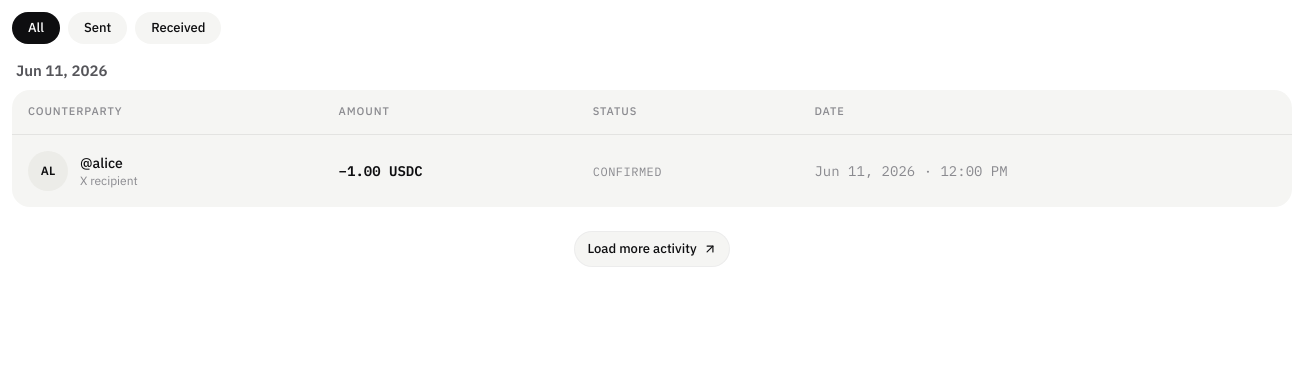
Test: ActivityPage › loads more activity through one combined cursor and appends rows
The image size is (1292, 387).
What coordinates should you click on to do the following:
click the button "Load more activity"
I would click on:
 (652, 248)
Its box is [574,230,730,266].
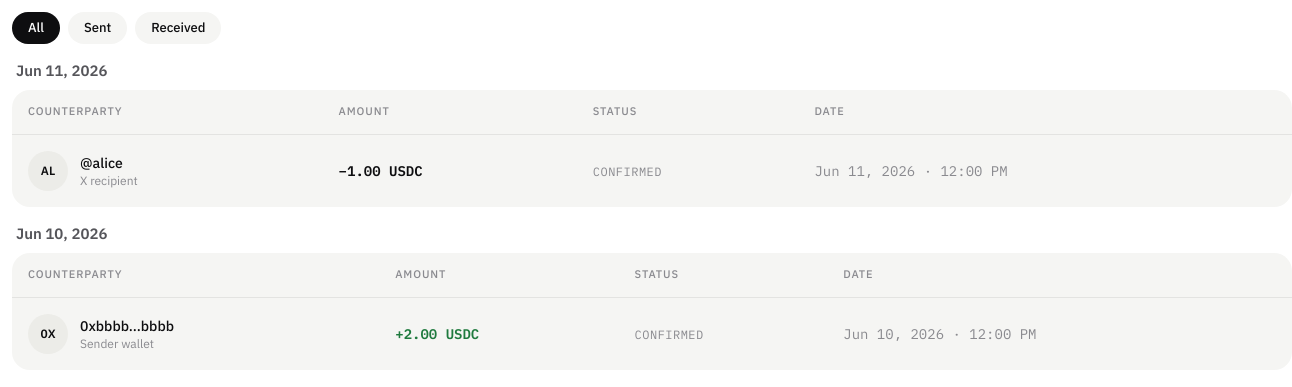
Expected: the text "@alice" is shown, [80,154,123,172]
Result: the text "0xbbbb...bbbb" is shown at [80,316,174,336]
